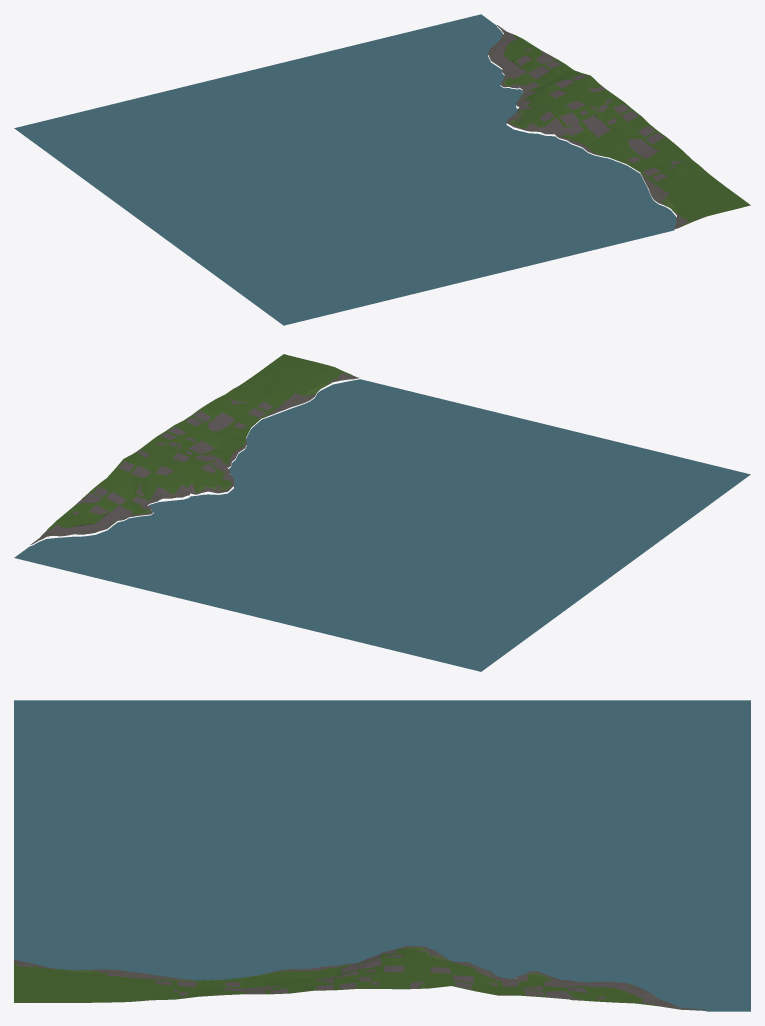
3 views of the same model, one above another, from view 1: azimuth 30°, elevation 25°; view 2: azimuth 150°, elevation 25°; view 3: azimuth 270°, elevation 25° (orthographic). The views are drawn at different scales.
Visible parts, largest first — view 1: c_m19_p01; view 2: c_m19_p01; view 3: c_m19_p01.
Boxes of the visible parts, bbox=[...] form: c_m19_p01: bbox=[14, 14, 750, 325]; c_m19_p01: bbox=[14, 354, 750, 671]; c_m19_p01: bbox=[14, 700, 750, 1011].
Bounding box in the file's own units: 128 × 4.95 × 128.
